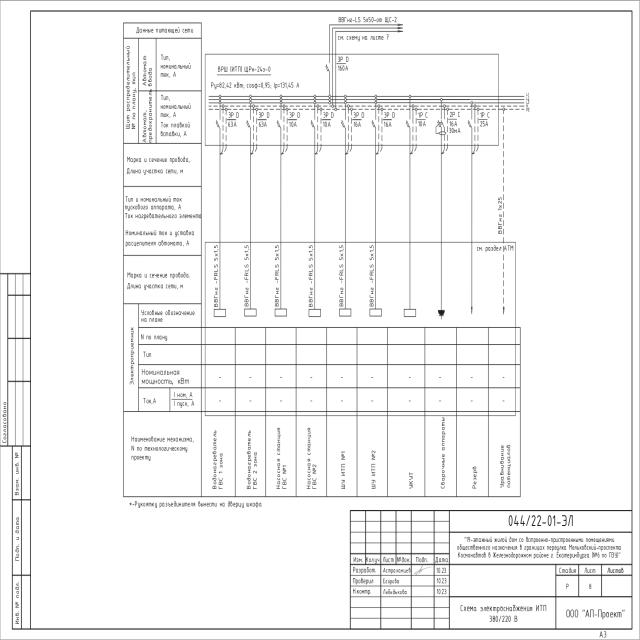-: (216, 64, 272, 74), (448, 112, 462, 134), (336, 54, 350, 72), (352, 112, 366, 128), (383, 111, 397, 127), (257, 111, 271, 127), (322, 112, 336, 128), (287, 111, 301, 127), (227, 111, 240, 128), (417, 111, 429, 128), (479, 111, 491, 128)
QF: (405, 115, 412, 129), (341, 114, 347, 130), (276, 115, 282, 130), (310, 116, 316, 131), (216, 116, 222, 131), (246, 116, 252, 130), (325, 60, 331, 74), (371, 116, 376, 132), (467, 117, 473, 130)
QFD: (435, 117, 446, 136)
